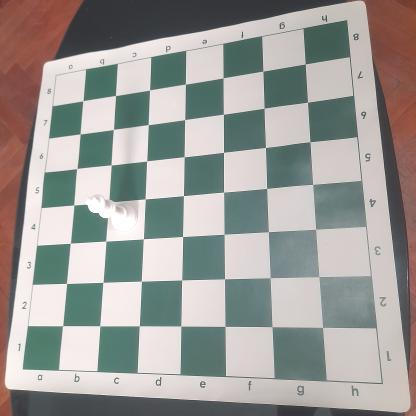white-king: (84, 194, 139, 233)
